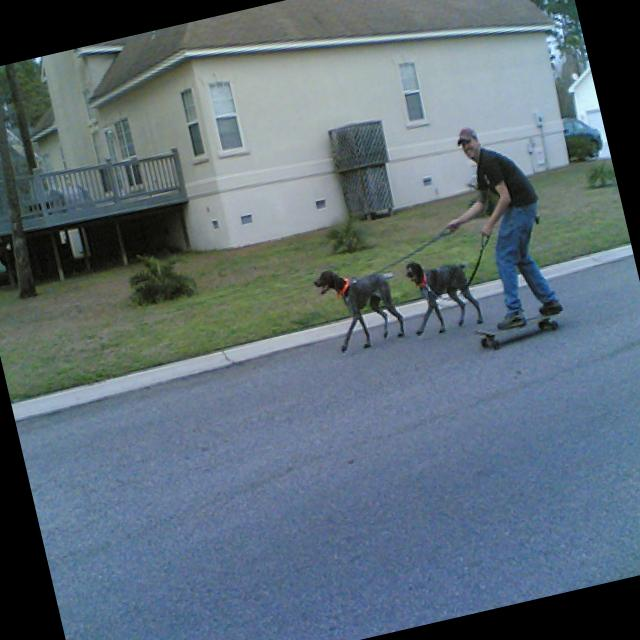Vehicle: (559, 110, 606, 164)
